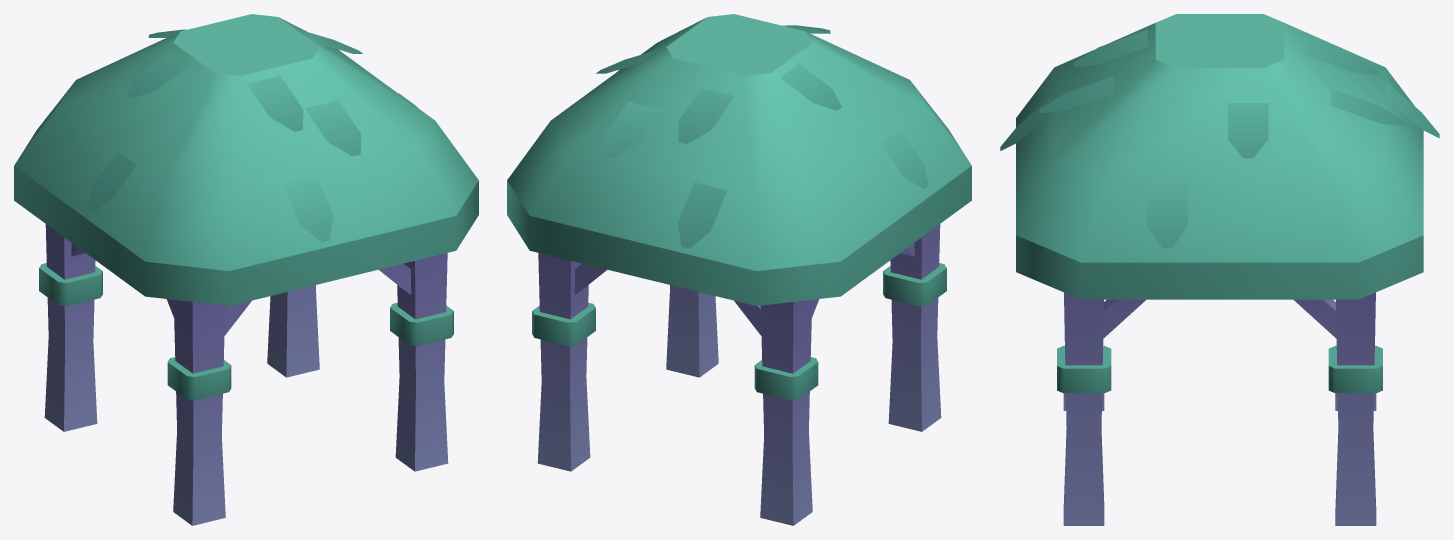
Rendered from structure-roof.fbx.
3 views of the same model, side by side, from view 1: azimuth 30°, elevation 25°; view 2: azimuth 150°, elevation 25°; view 3: azimuth 270°, elevation 25° (orthographic). The views are drawn at different scales.
Visible parts, largest first — view 1: structure-roof; view 2: structure-roof; view 3: structure-roof.
Boxes of the visible parts, box(x1,y1,x2,y2) form: structure-roof: box(14, 14, 478, 525); structure-roof: box(507, 14, 971, 525); structure-roof: box(1000, 14, 1439, 525).
Bounding box in the file's own units: 309 × 340 × 323.
